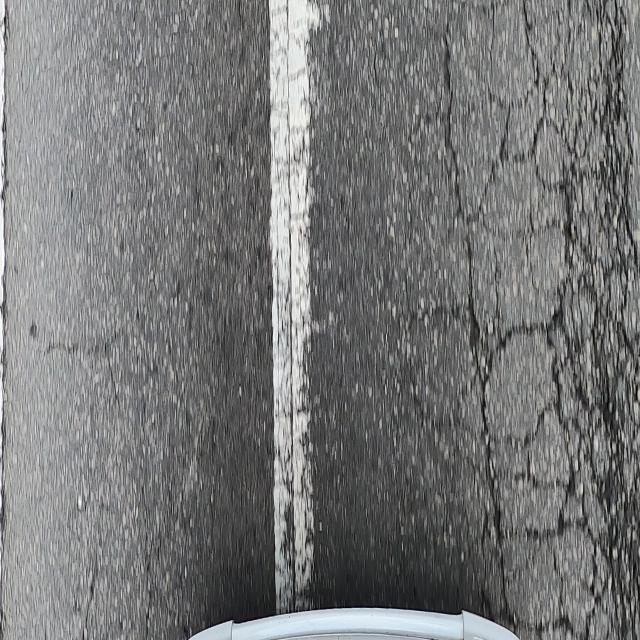Retak-Buaya: (409, 0, 640, 640)
